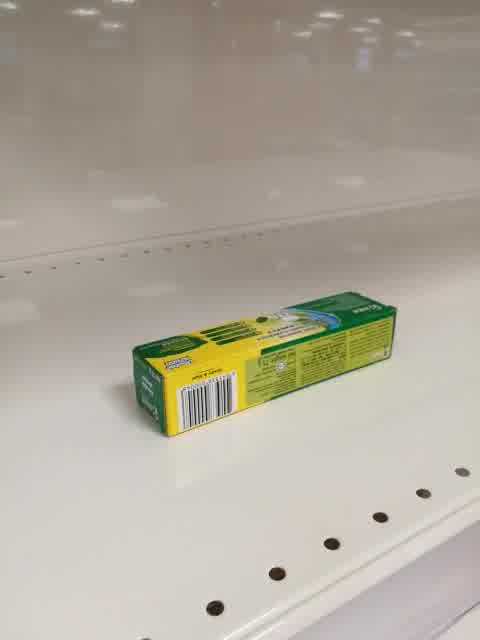toothpaste: (133, 291, 397, 440)
